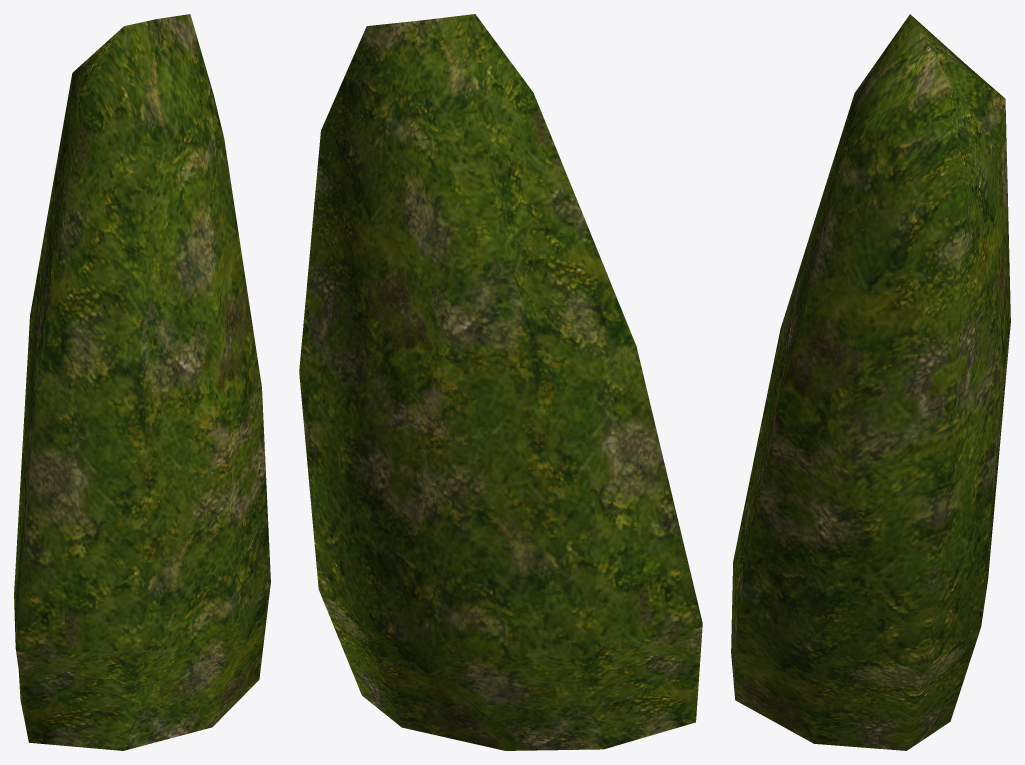
The model's file is OVERHILL_A_01_ROCK200.fbx.
3 views of the same model, side by side, from view 1: azimuth 30°, elevation 25°; view 2: azimuth 150°, elevation 25°; view 3: azimuth 270°, elevation 25° (orthographic). The views are drawn at different scales.
Parts seen in each view (by area): view 1: OVERHILL_A_01_ROCK200; view 2: OVERHILL_A_01_ROCK200; view 3: OVERHILL_A_01_ROCK200.
Boxes of the visible parts, x1,y1,x2,y2 form: OVERHILL_A_01_ROCK200: [14, 14, 270, 750]; OVERHILL_A_01_ROCK200: [299, 14, 702, 750]; OVERHILL_A_01_ROCK200: [731, 14, 1010, 750].
Bounding box in the file's own units: 17292 × 35696 × 13256.
Materials: 1 (1 with a texture image).
